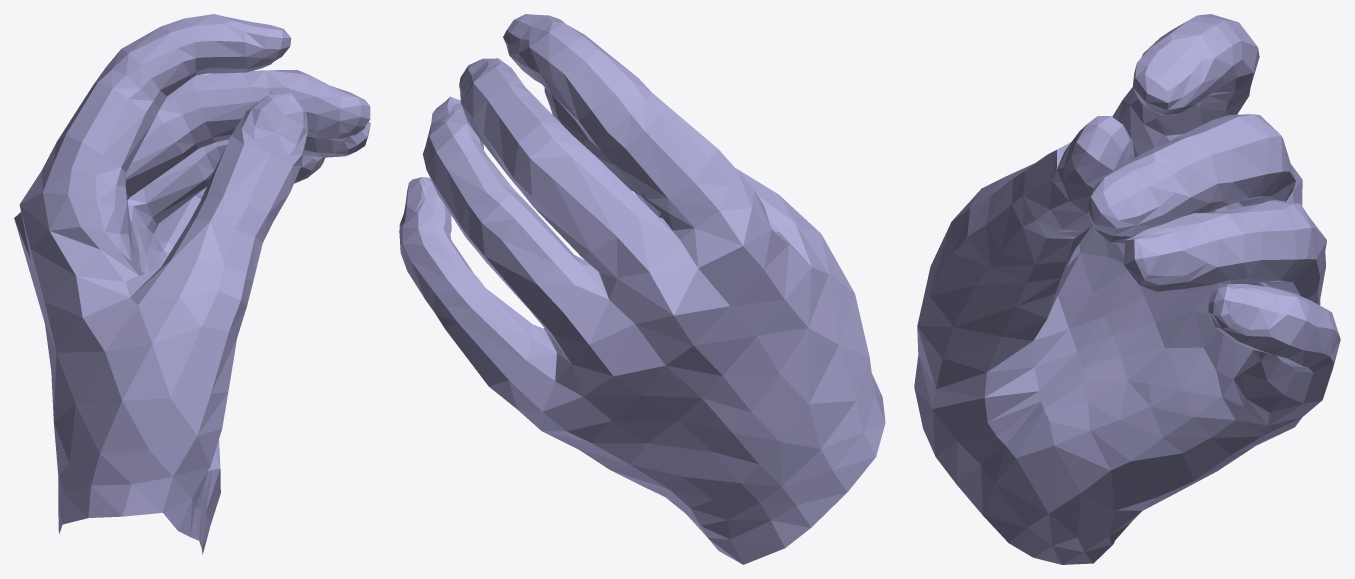
Rendered from frame_0018_source_000018_hand.glb.
The picture shows the model from 3 angles, left to right: view 1: azimuth 30°, elevation 25°; view 2: azimuth 150°, elevation 25°; view 3: azimuth 270°, elevation 25°; orthographic projection. The views are drawn at different scales.
Visible parts, largest first — view 1: world; view 2: world; view 3: world.
Part boxes in pixels (box(x1,y1,x2,y2)): world: box(14, 14, 370, 554); world: box(399, 14, 885, 564); world: box(914, 14, 1340, 564).
Bounding box in the file's own units: 0.1113 × 0.1448 × 0.0938.
